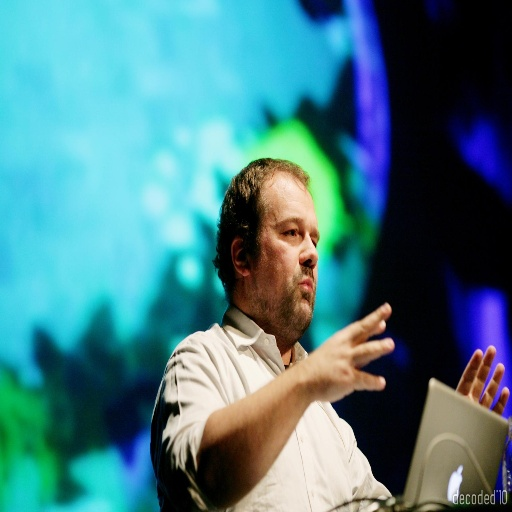hand: (292, 305, 399, 410), (455, 343, 508, 412)
